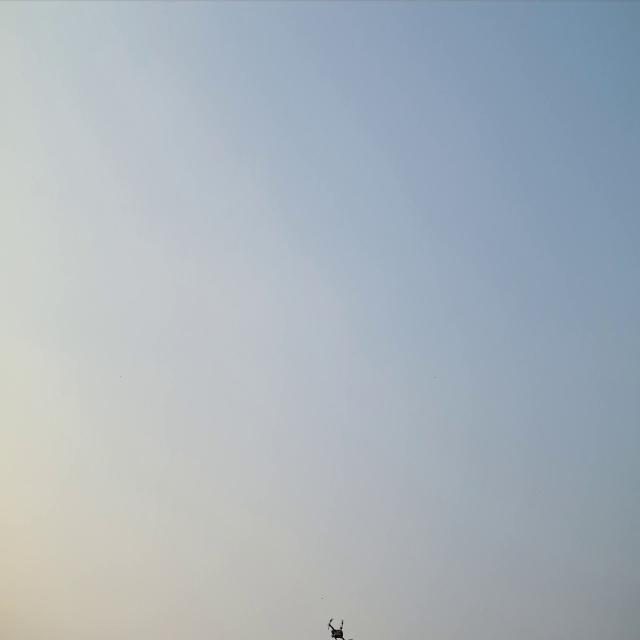UAV: (326, 613, 354, 640)
